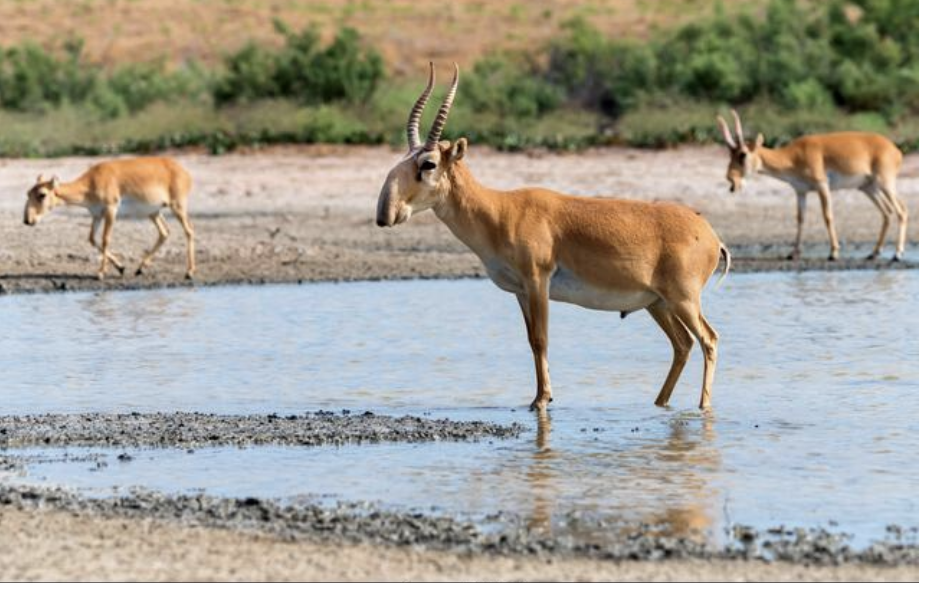saiga: (367, 60, 733, 424)
